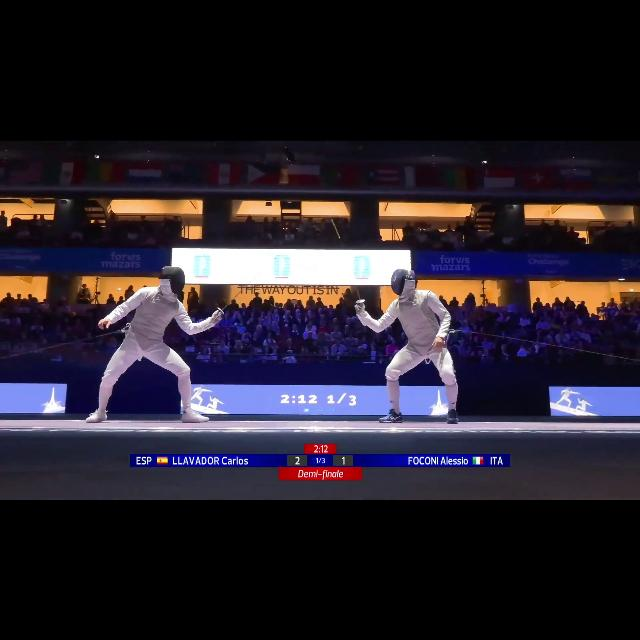blade: (328, 215, 369, 308)
